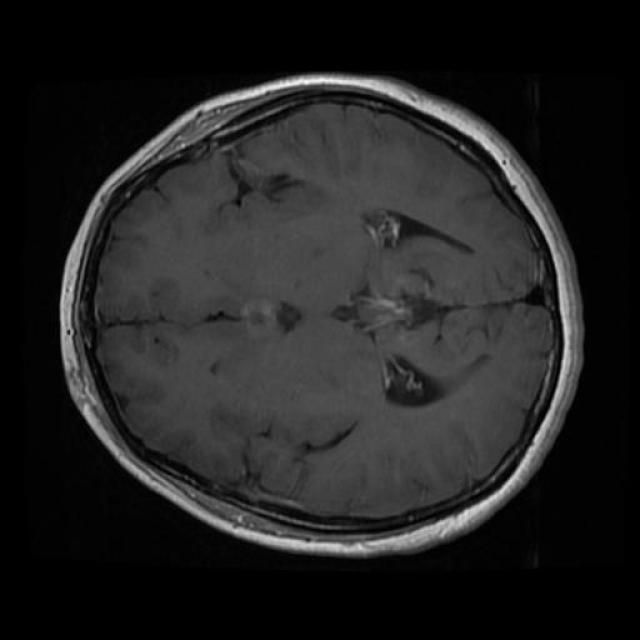Pituitary: (241, 302, 282, 328)
